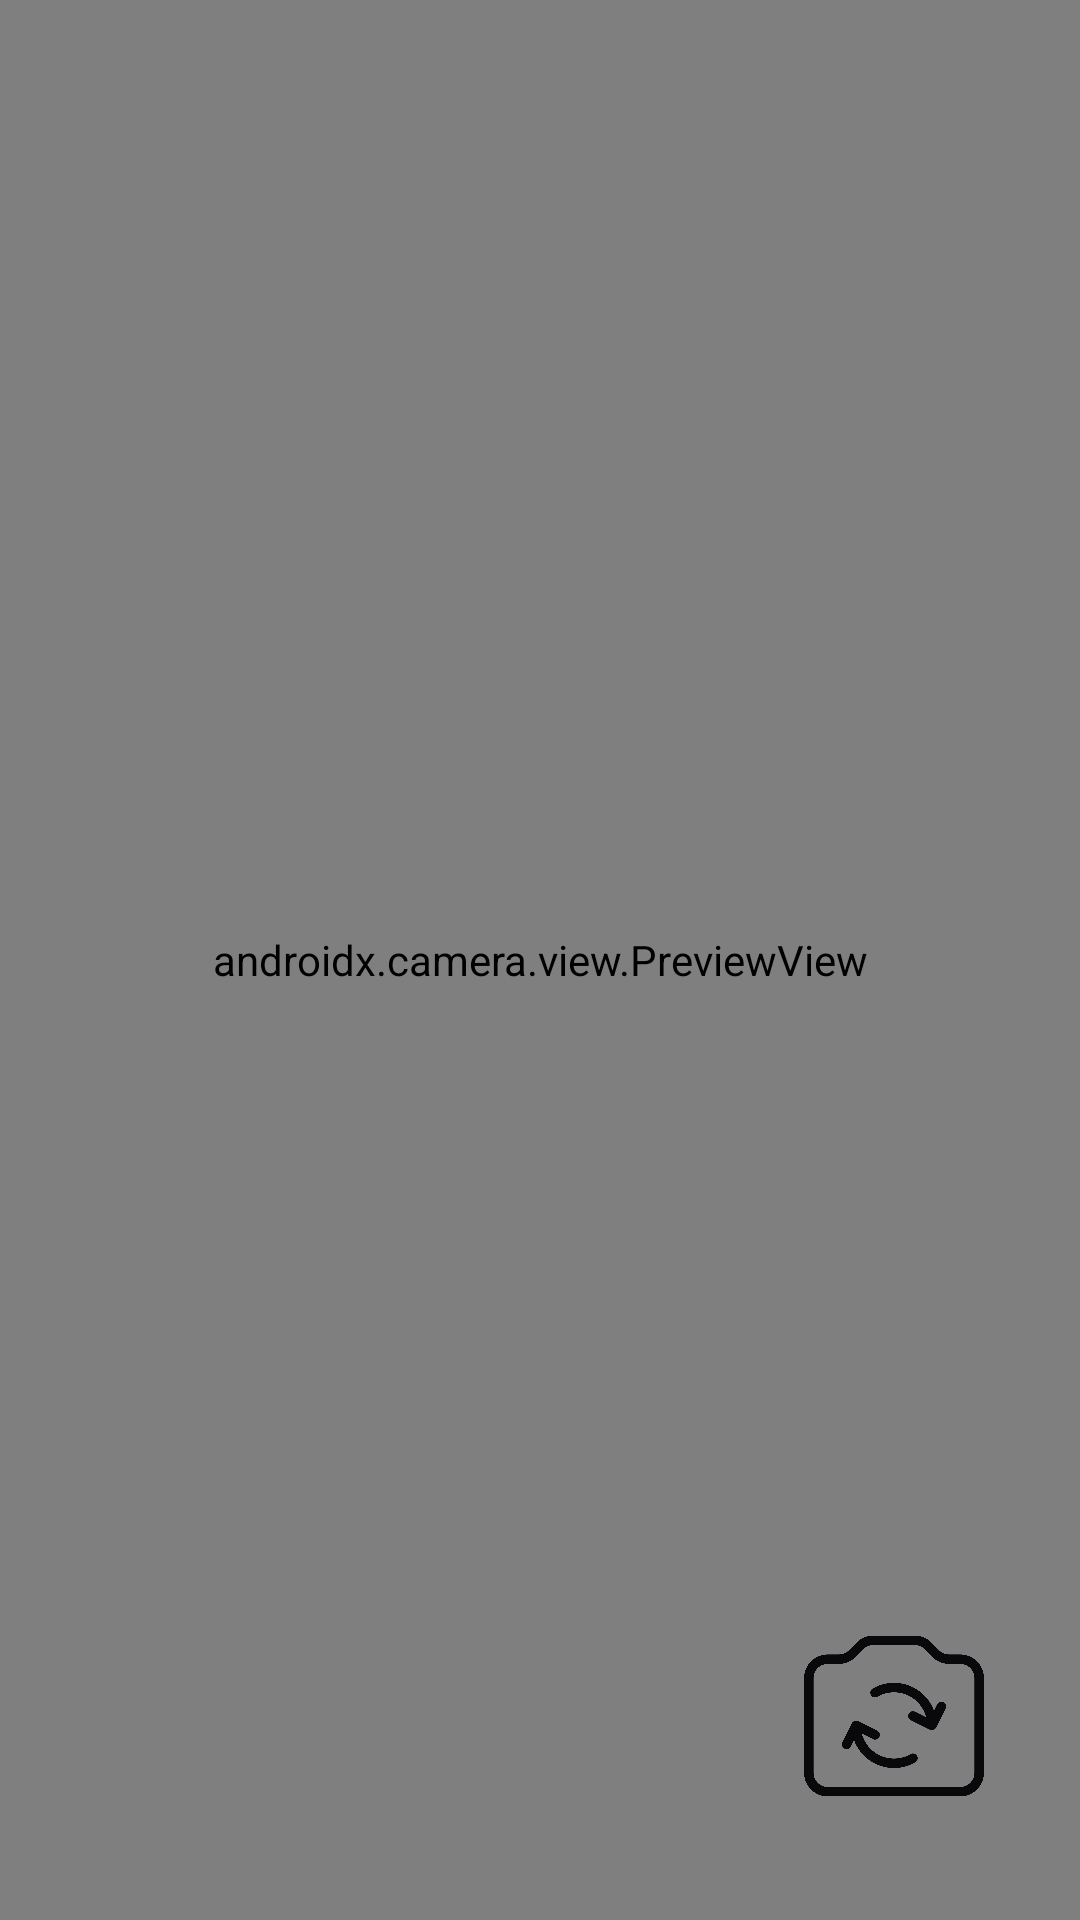

Icons on this 1080x1920 Android screen, each with the point to tap as (x=x, y=y):
rotatecam: (x=894, y=1716)
